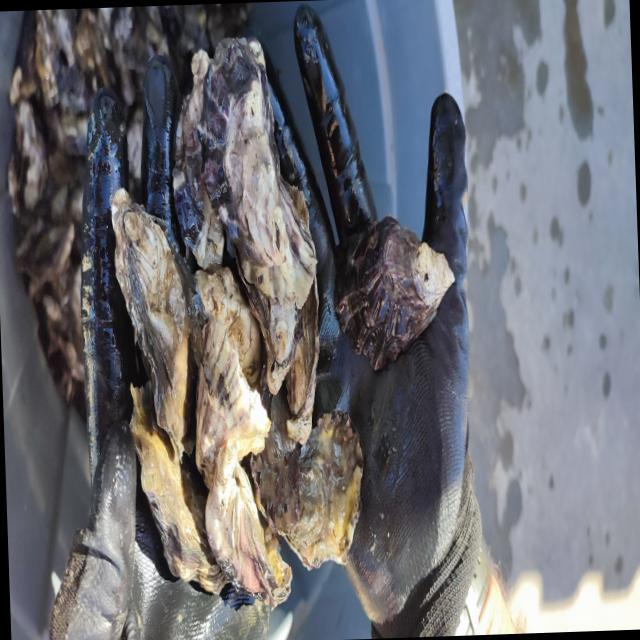Oyster- Indeterminate: (204, 39, 316, 334), (191, 266, 279, 594), (111, 189, 189, 458), (131, 386, 228, 594), (338, 218, 455, 370), (262, 411, 362, 569), (174, 50, 225, 269), (285, 282, 320, 444)
